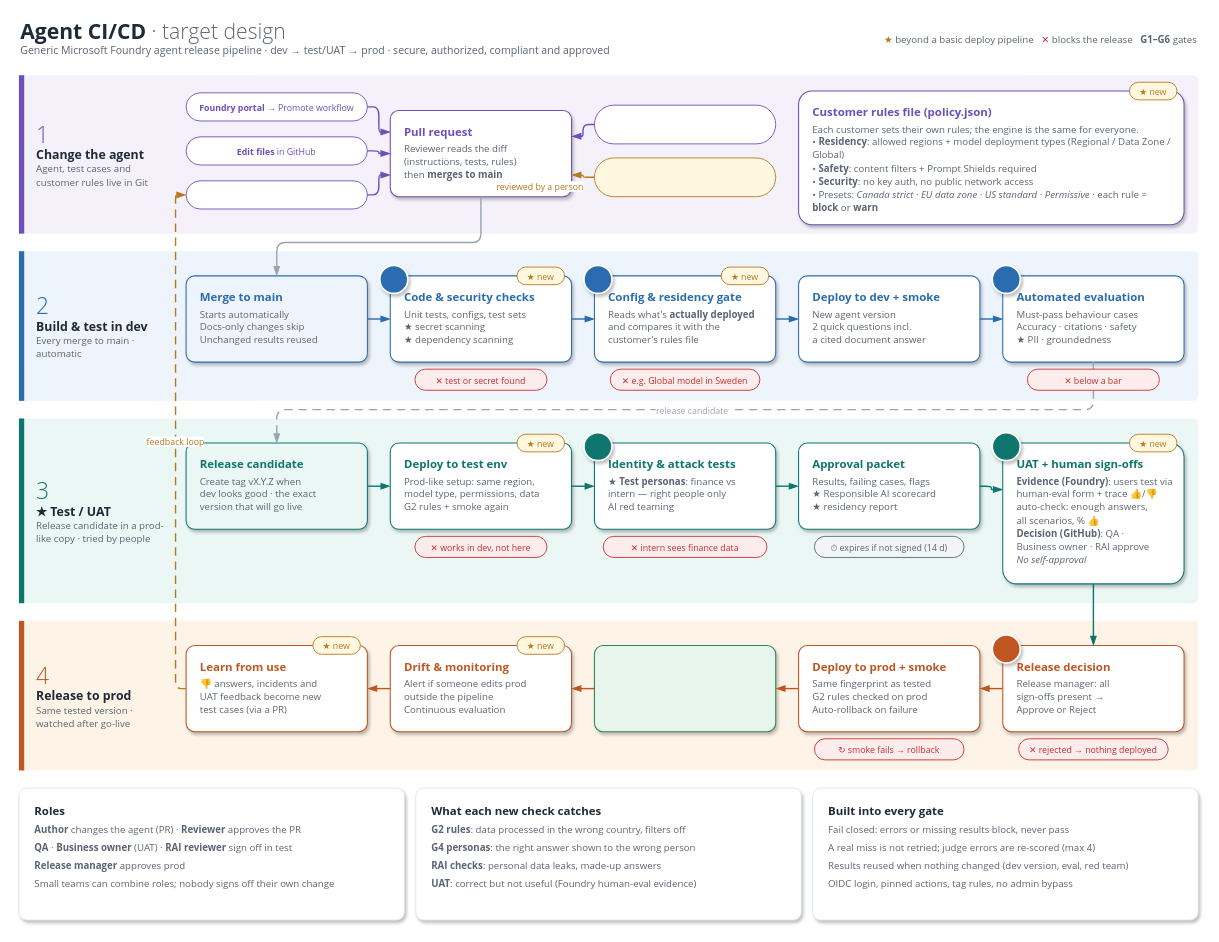
Image size: 1219x942. Some labels were removed from this diagram. Each missing label, with the centre of its shape:
"G1" goes at (x=394, y=280).
"G2" goes at (x=598, y=280).
"G3" goes at (x=1006, y=280).
"G4" goes at (x=598, y=447).
"G5" goes at (x=1006, y=447).
"G6" goes at (x=1006, y=650).
"Harvest conversations + UAT 👎" goes at (x=276, y=194).
"Live ✓ Customer's prod project Approval history kept as the audit record" goes at (x=685, y=689).
"Path A · customer test cases (questions + expected answers)" goes at (x=685, y=124).
"★ Path B · no test cases yet: ASSERT drafts them from plain language" goes at (x=685, y=177).
